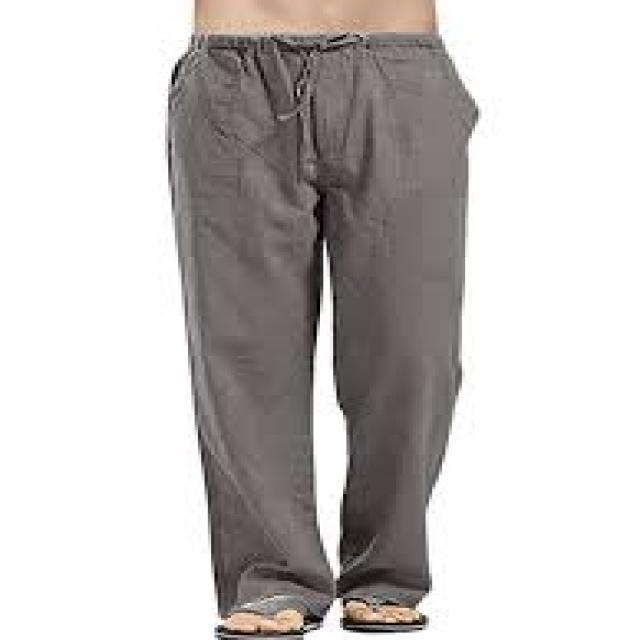pants: (159, 26, 483, 602)
